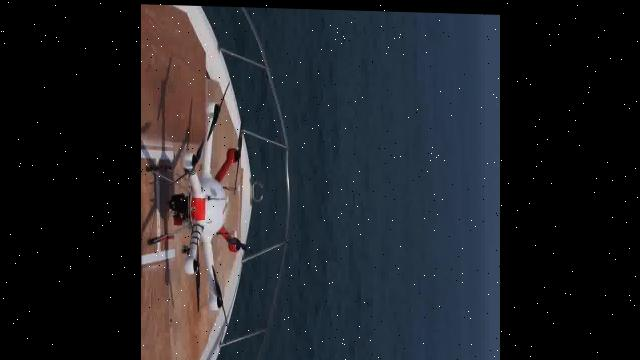drone: (140, 3, 277, 360)
